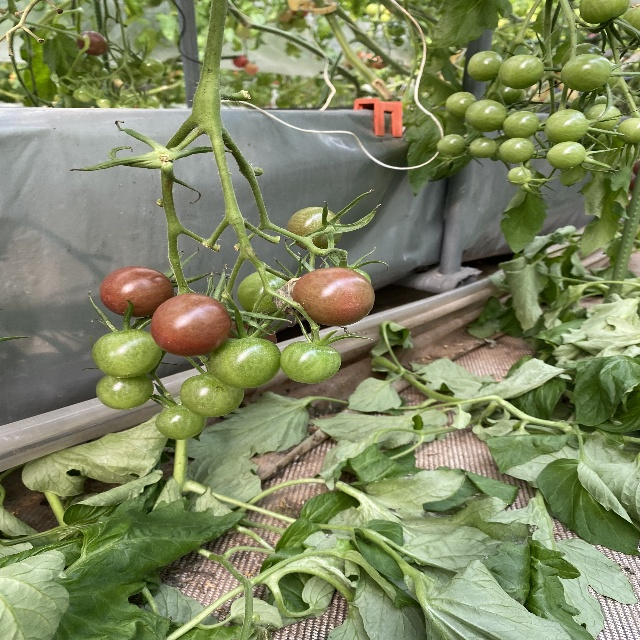l_fully_ripened: (98, 265, 175, 318)
l_green: (209, 337, 282, 389), (91, 329, 163, 378), (237, 270, 297, 321), (179, 374, 245, 418), (280, 341, 341, 384), (286, 207, 342, 250), (560, 53, 614, 92), (96, 374, 154, 410), (155, 405, 207, 439), (497, 54, 545, 90), (544, 109, 590, 144), (464, 99, 507, 133), (579, 0, 631, 24), (561, 43, 605, 70), (585, 103, 621, 135), (502, 110, 540, 140), (547, 141, 586, 170), (467, 50, 502, 82), (499, 137, 535, 163), (444, 92, 478, 119), (621, 5, 640, 41), (435, 134, 467, 155), (468, 137, 498, 158), (617, 117, 640, 144), (508, 166, 533, 186)
l_half_ripened: (149, 293, 233, 357), (292, 267, 375, 327)
